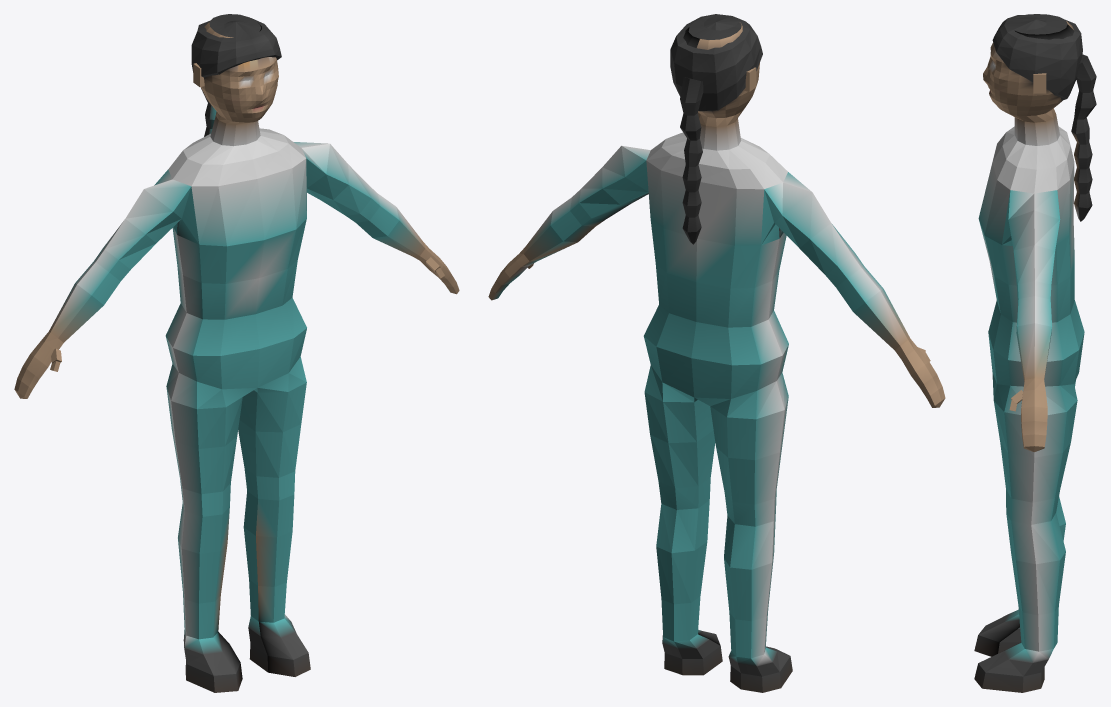
Rendered from char__pessoa__piloto_m04.glb.
3 views of the same model, side by side, from view 1: azimuth 30°, elevation 25°; view 2: azimuth 150°, elevation 25°; view 3: azimuth 270°, elevation 25° (orthographic). The views are drawn at different scales.
Parts seen in each view (by area): view 1: char__pessoa__piloto_m04; view 2: char__pessoa__piloto_m04; view 3: char__pessoa__piloto_m04.
Boxes of the visible parts, bbox=[...] form: char__pessoa__piloto_m04: bbox=[14, 14, 459, 692]; char__pessoa__piloto_m04: bbox=[488, 14, 945, 692]; char__pessoa__piloto_m04: bbox=[974, 14, 1096, 692].
Bounding box in the file's own units: 1.23 × 1.73 × 0.295.
